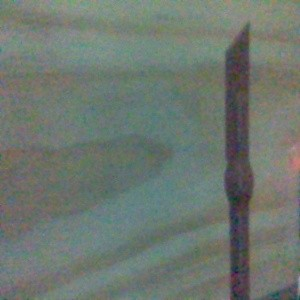cutter: (223, 20, 254, 300)
